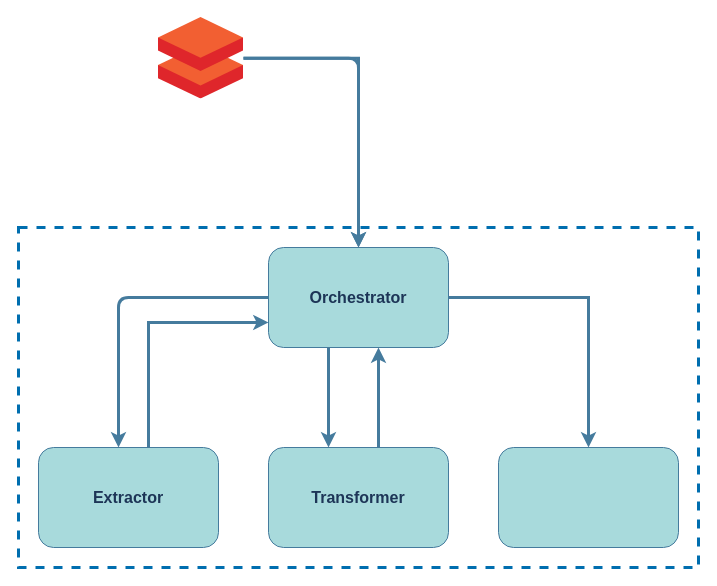
Some shapes in this 717 by 586 pixel diagram are drawn without their labels. Here are the shapes that lost their labels. From the top down, the box of each, then its label:
(158, 17, 243, 99): Job Notebook
(498, 446, 678, 548): Loader
